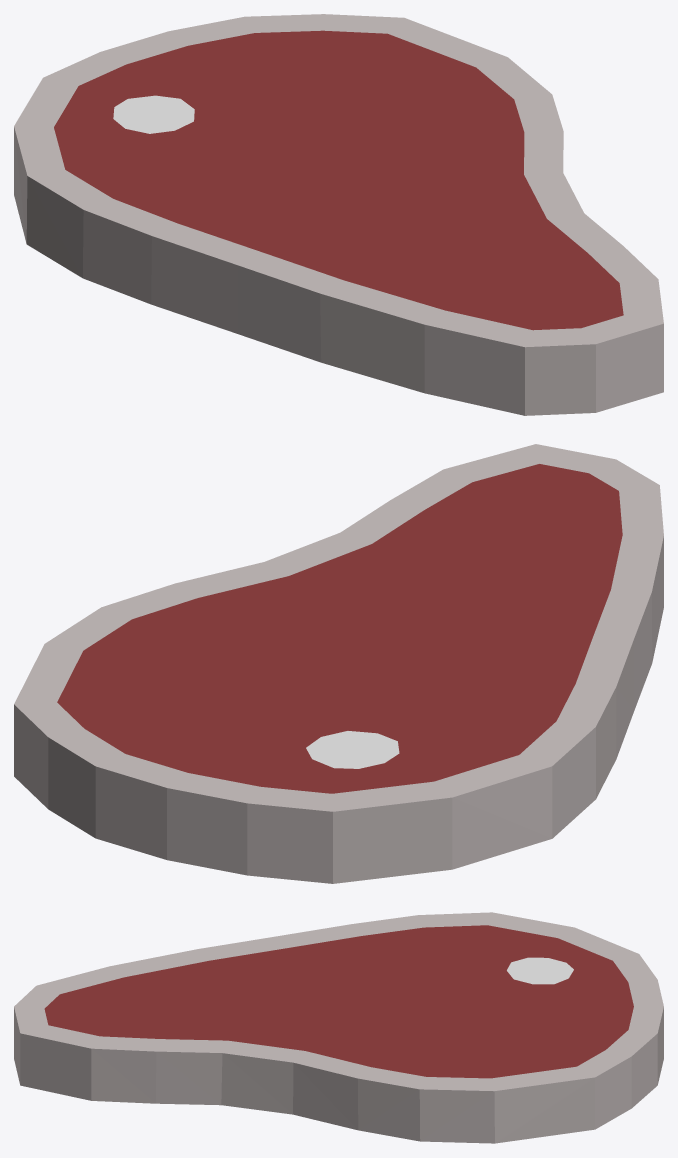
Rendered from Steak.fbx.
3 views of the same model, one above another, from view 1: azimuth 30°, elevation 25°; view 2: azimuth 150°, elevation 25°; view 3: azimuth 270°, elevation 25° (orthographic). The views are drawn at different scales.
Visible parts, largest first — view 1: Cylinder.001, Cylinder, Cylinder.002; view 2: Cylinder.001, Cylinder, Cylinder.002; view 3: Cylinder.001, Cylinder, Cylinder.002.
Part boxes in pixels (left/top/right/bottom): Cylinder.001: left=54, top=30, right=623, bottom=330; Cylinder: left=14, top=14, right=663, bottom=415; Cylinder.002: left=113, top=95, right=194, bottom=133; Cylinder.001: left=57, top=464, right=622, bottom=793; Cylinder: left=14, top=444, right=663, bottom=883; Cylinder.002: left=306, top=731, right=399, bottom=768; Cylinder.001: left=44, top=925, right=633, bottom=1078; Cylinder: left=14, top=912, right=663, bottom=1143; Cylinder.002: left=507, top=957, right=573, bottom=984.
Bounding box in the file's own units: 50.23 × 6.83 × 77.02.
